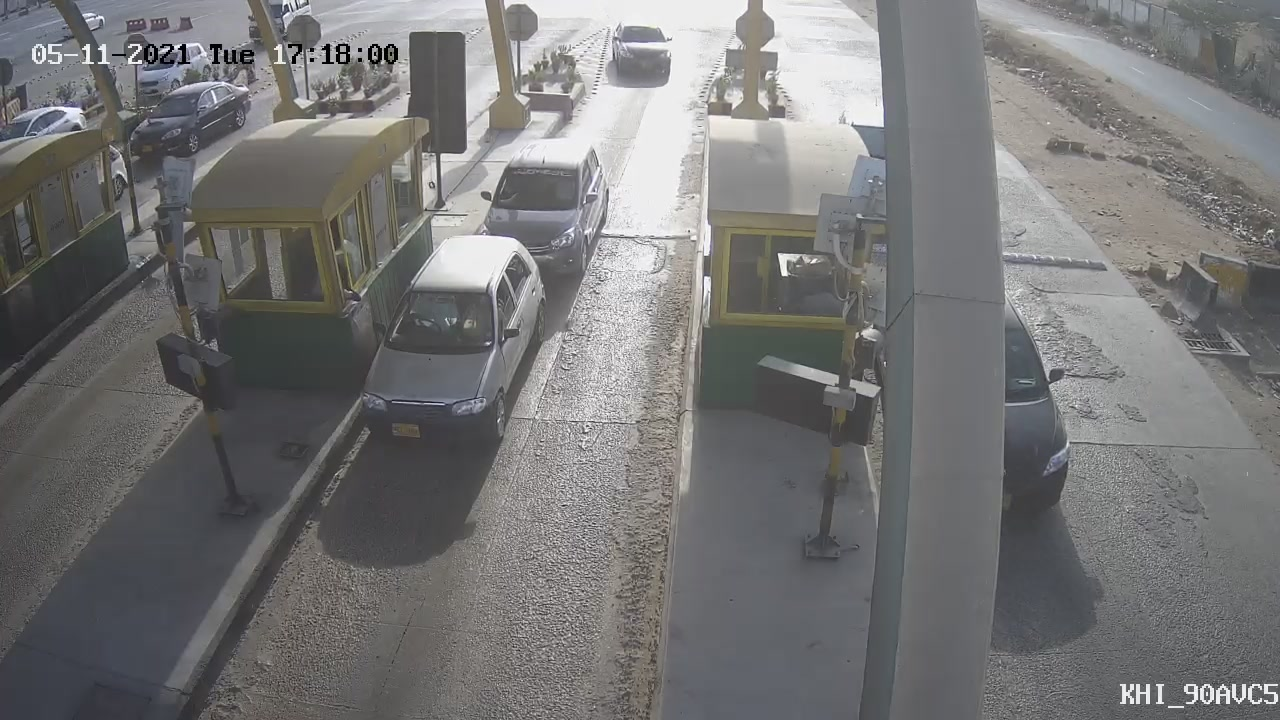F1: (334, 226, 570, 464), (465, 125, 626, 295)
